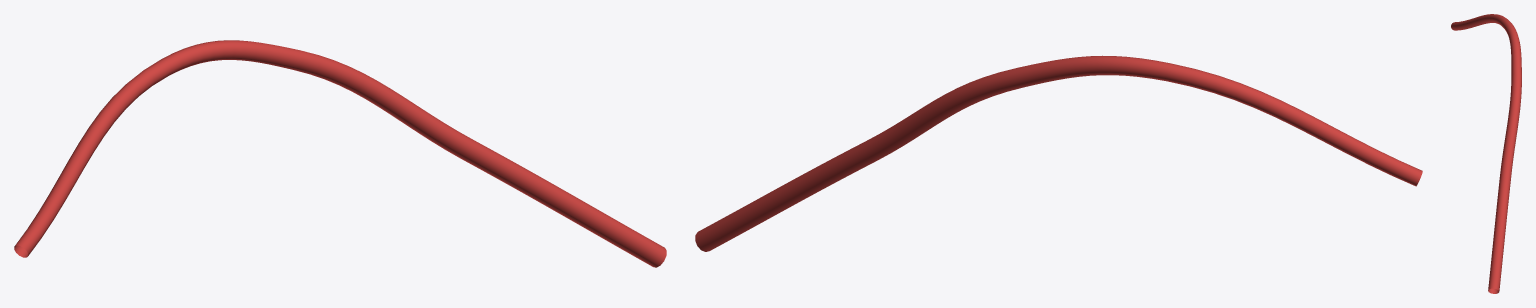
The picture shows the model from 3 angles, left to right: view 1: azimuth 30°, elevation 25°; view 2: azimuth 150°, elevation 25°; view 3: azimuth 270°, elevation 25°; orthographic projection. The views are drawn at different scales.
Parts seen in each view (by area): view 1: 右侧旋肱后动脉; view 2: 右侧旋肱后动脉; view 3: 右侧旋肱后动脉.
Boxes of the visible parts, x1,y1,x2,y2 form: 右侧旋肱后动脉: [14, 40, 666, 267]; 右侧旋肱后动脉: [695, 55, 1422, 251]; 右侧旋肱后动脉: [1451, 14, 1521, 293].
Bounding box in the file's own units: 0.0823 × 0.036 × 0.0147.
